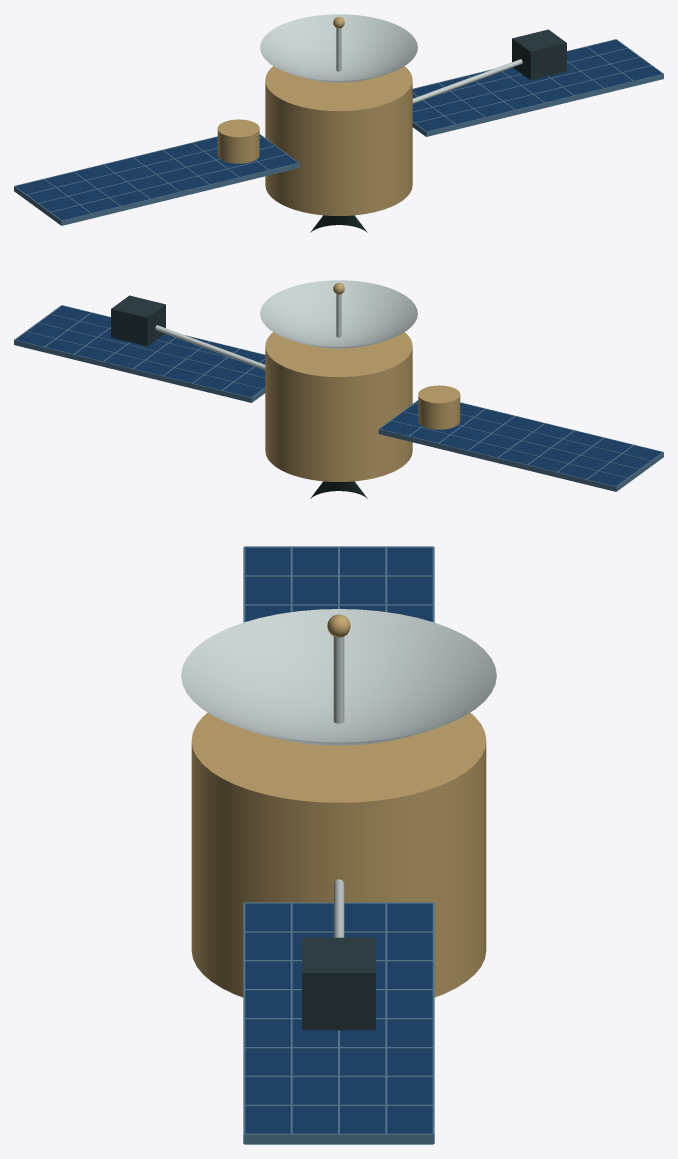
Rendered from mangalyaan.glb.
The picture shows the model from 3 angles, top to bottom: view 1: azimuth 30°, elevation 25°; view 2: azimuth 150°, elevation 25°; view 3: azimuth 270°, elevation 25°; orthographic projection. The views are drawn at different scales.
Parts seen in each view (by area): view 1: solar (×2), body, antenna, instruments, propulsion; view 2: solar (×2), body, antenna, instruments, propulsion; view 3: body, solar (×2), antenna, instruments.
Part boxes in pixels (x1,y1,x2,y2): solar (×2): (14, 39, 663, 225); body: (265, 66, 412, 215); antenna: (260, 14, 417, 82); instruments: (217, 29, 566, 163); propulsion: (310, 215, 367, 232); solar (×2): (14, 305, 663, 491); body: (265, 332, 412, 481); antenna: (260, 280, 417, 348); instruments: (111, 295, 460, 429); propulsion: (310, 481, 367, 498); body: (191, 712, 486, 997); solar (×2): (243, 546, 434, 1144); antenna: (181, 609, 496, 745); instruments: (302, 879, 375, 1030).
Size of the model in its own units: 6.61 by 2.31 by 1.5.
